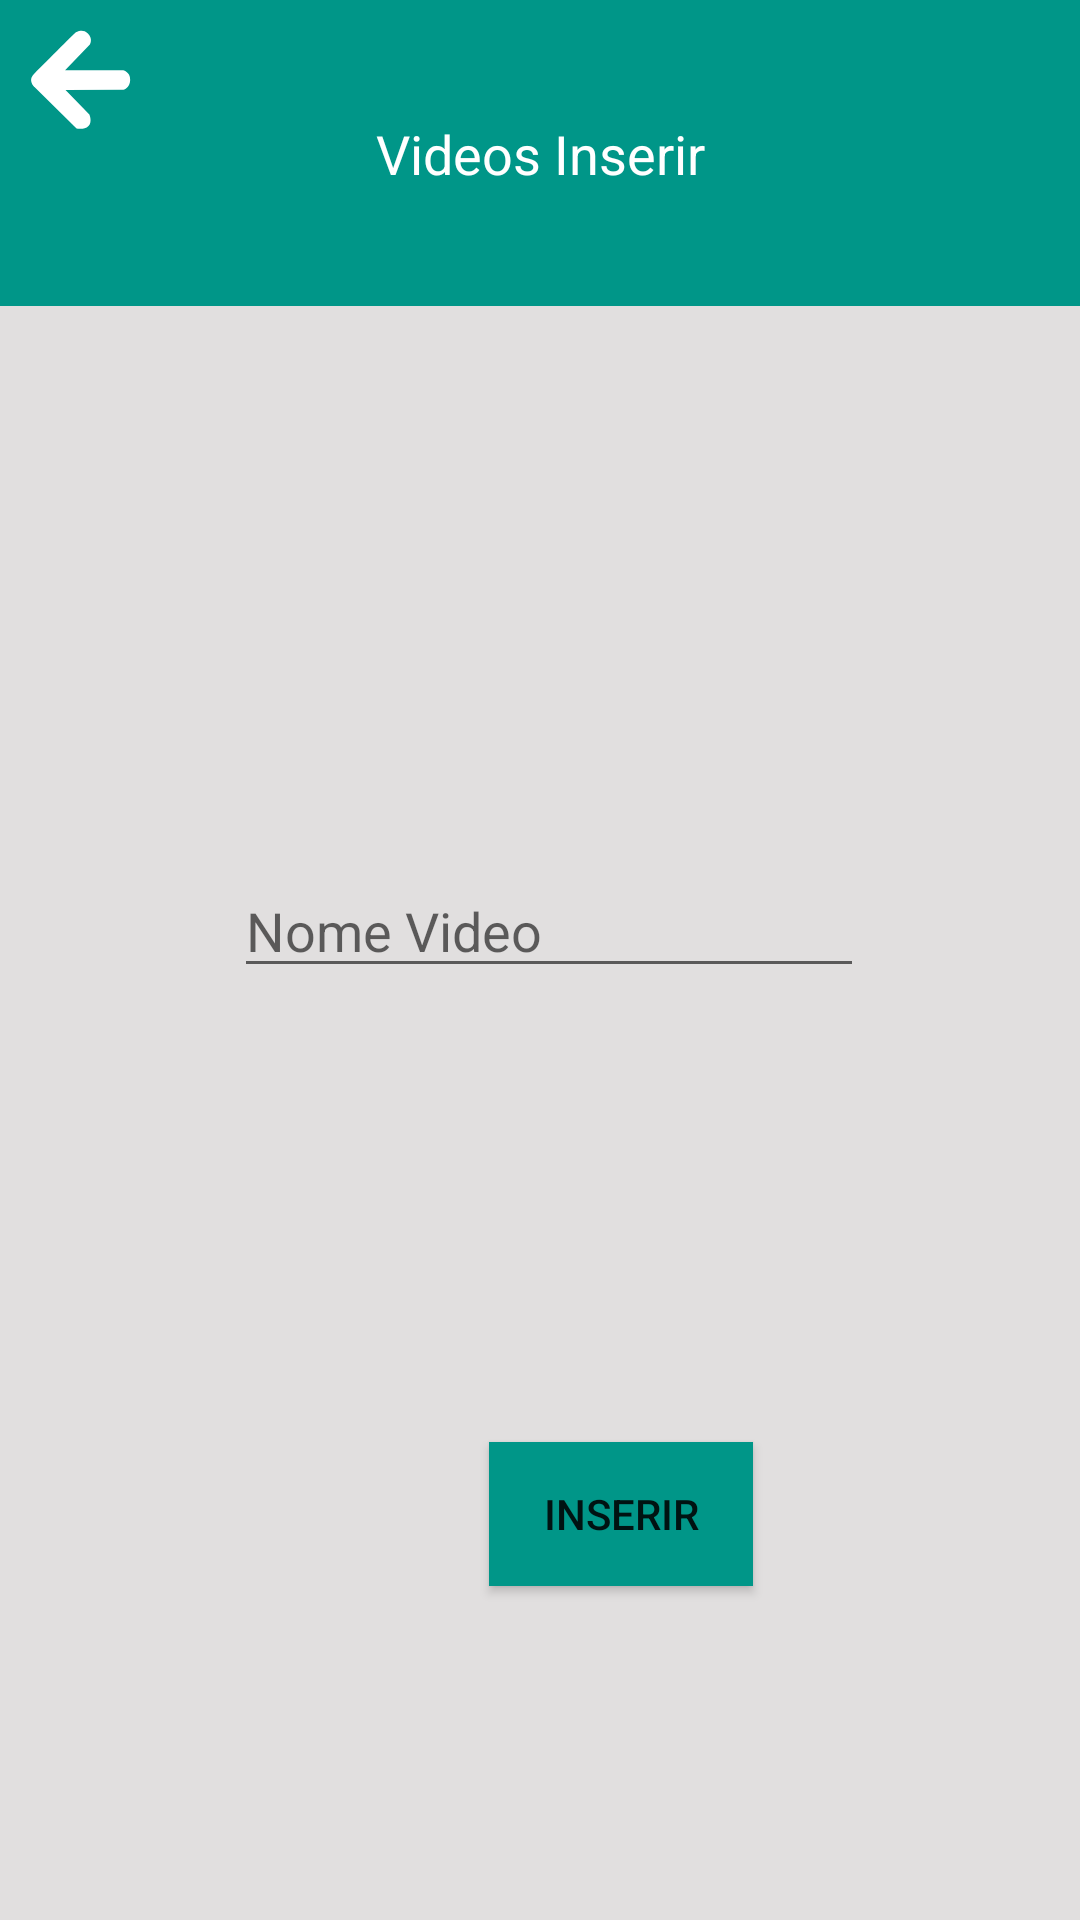

Screen size 1080*1920. Icon name, then its box in pixels as (x1, y1, x2, y2):
seta: (31, 30, 131, 129)
